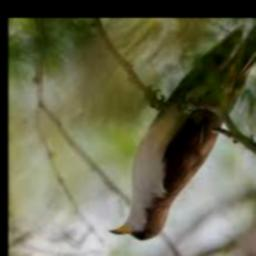Cuckoo: (109, 18, 256, 239)
